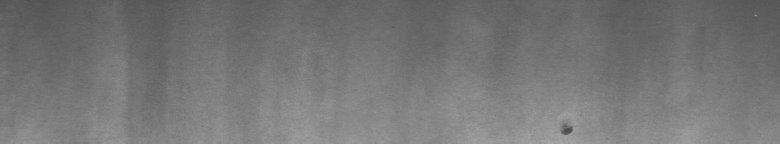fi: (556, 113, 578, 136)
